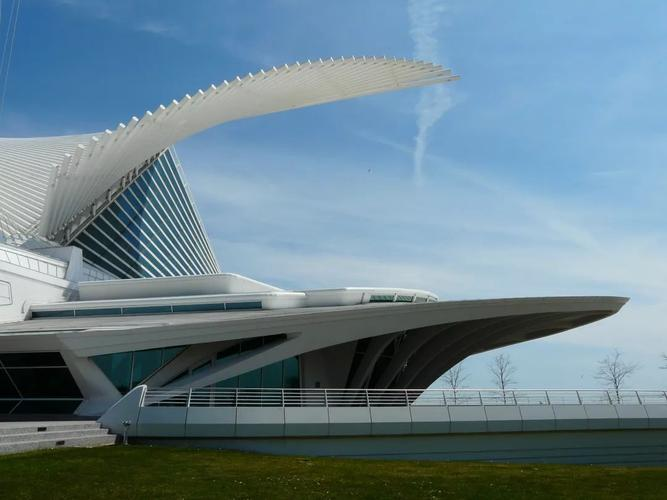buildings: (23, 190, 633, 435), (30, 91, 562, 310)
